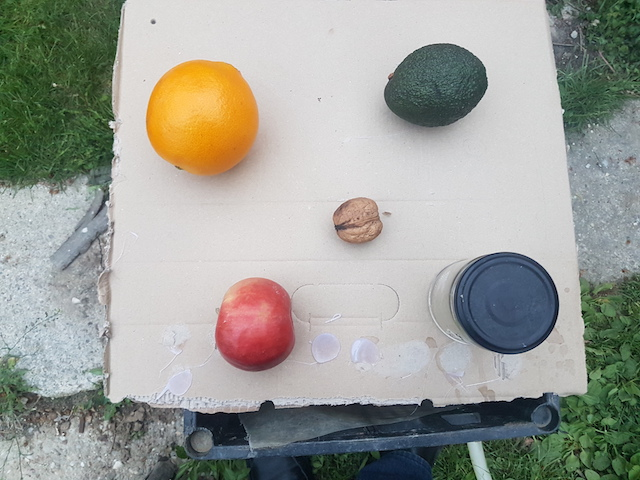apple: (214, 275, 297, 372)
avocado: (373, 41, 491, 130)
nut: (329, 193, 387, 245)
orange: (145, 53, 257, 177)
recipient: (454, 249, 561, 361)
